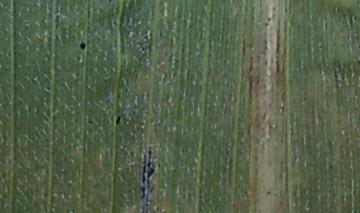tarspot: (145, 148, 156, 187), (140, 151, 146, 200), (110, 18, 120, 28), (114, 114, 122, 126), (78, 41, 86, 52), (338, 71, 345, 81), (265, 189, 273, 196), (327, 163, 333, 171), (129, 150, 135, 158), (263, 22, 271, 28), (271, 5, 277, 12), (352, 13, 357, 21), (86, 119, 92, 125), (266, 15, 271, 22), (332, 72, 337, 79), (356, 58, 360, 66), (105, 1, 114, 4)
